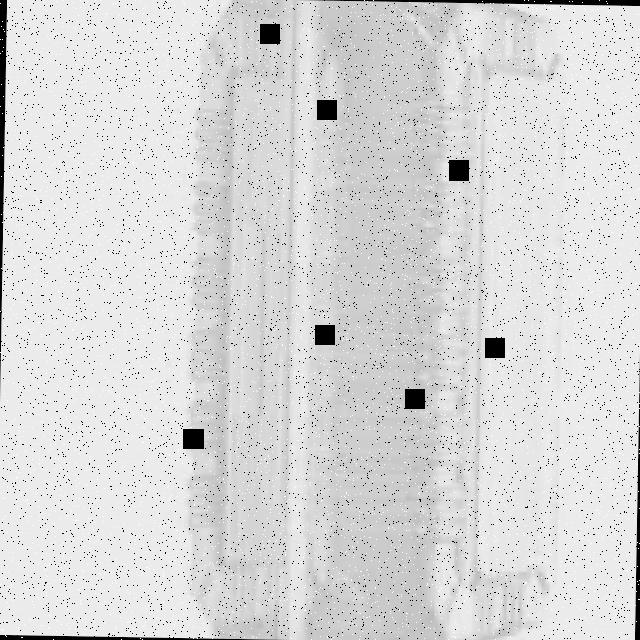plastic_box: (177, 1, 572, 640)
